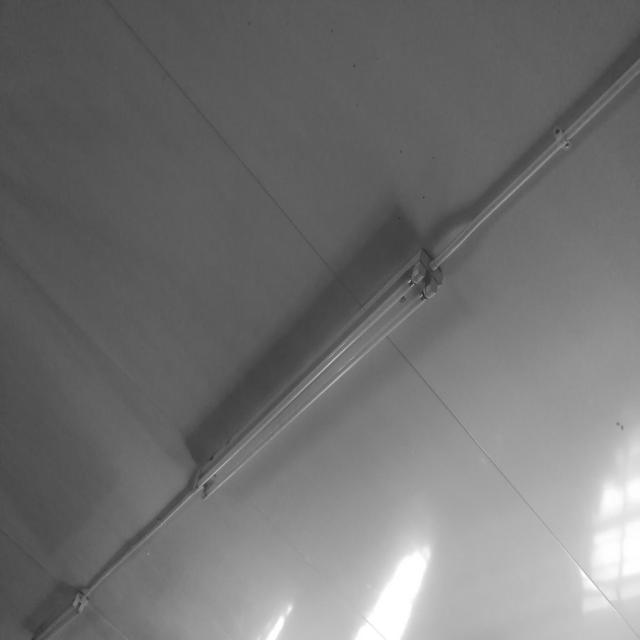light: (195, 244, 440, 512), (354, 544, 430, 639)
